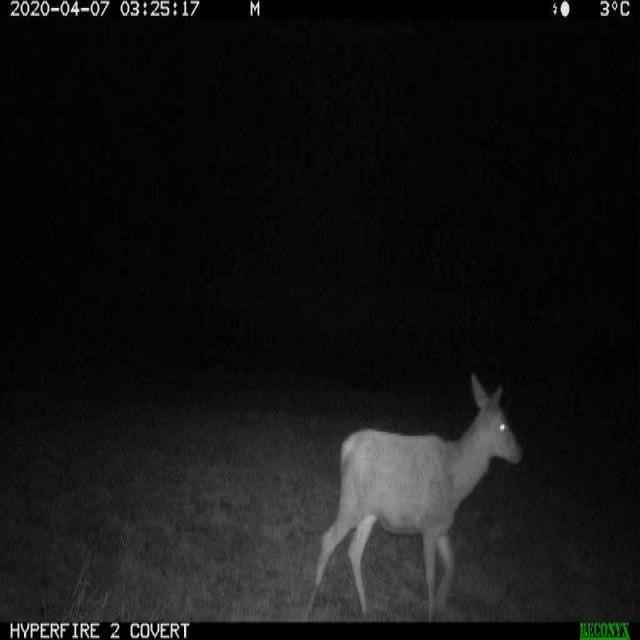deer: (314, 347, 537, 622)
